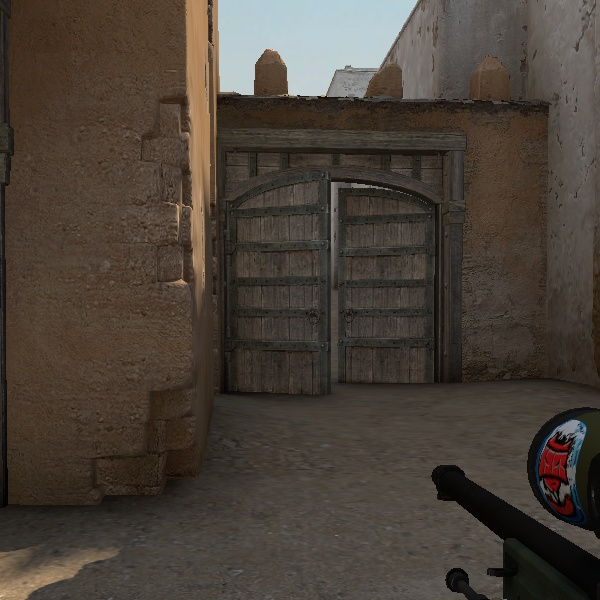ct_head: (503, 388, 594, 540)
